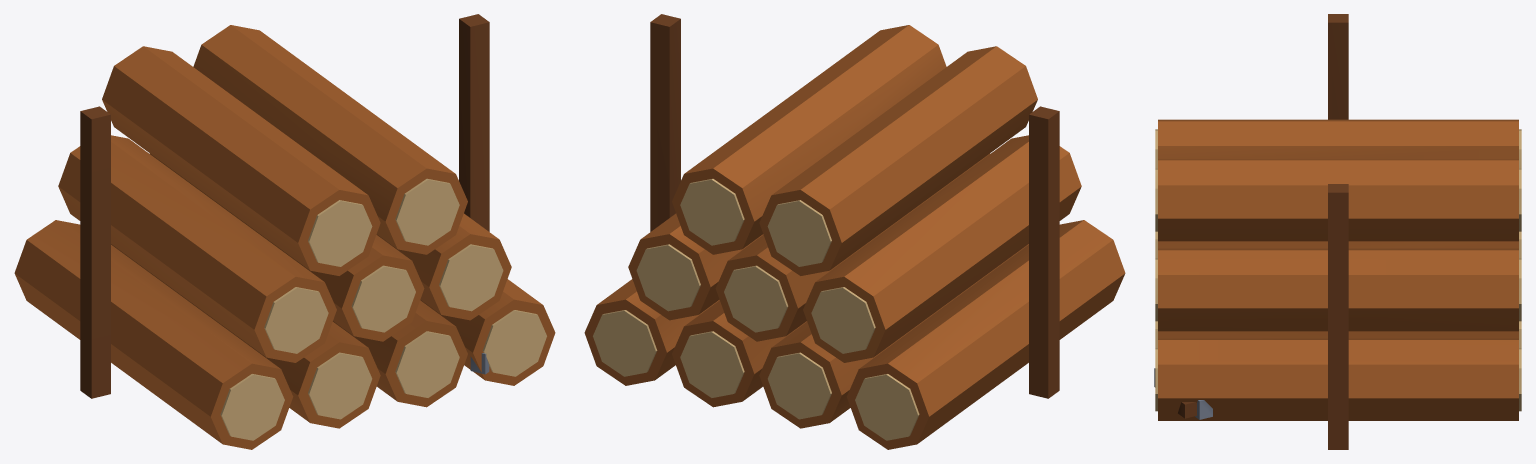
The model's file is b_holzstapel.glb.
The picture shows the model from 3 angles, left to right: view 1: azimuth 30°, elevation 25°; view 2: azimuth 150°, elevation 25°; view 3: azimuth 270°, elevation 25°; orthographic projection. The views are drawn at different scales.
Parts seen in each view (by area): view 1: body; view 2: body; view 3: body.
Boxes of the visible parts, bbox=[...] form: body: bbox=[14, 14, 555, 449]; body: bbox=[584, 14, 1125, 449]; body: bbox=[1154, 14, 1521, 449].
Bounding box in the file's own units: 1.64 × 1.1 × 1.42.
